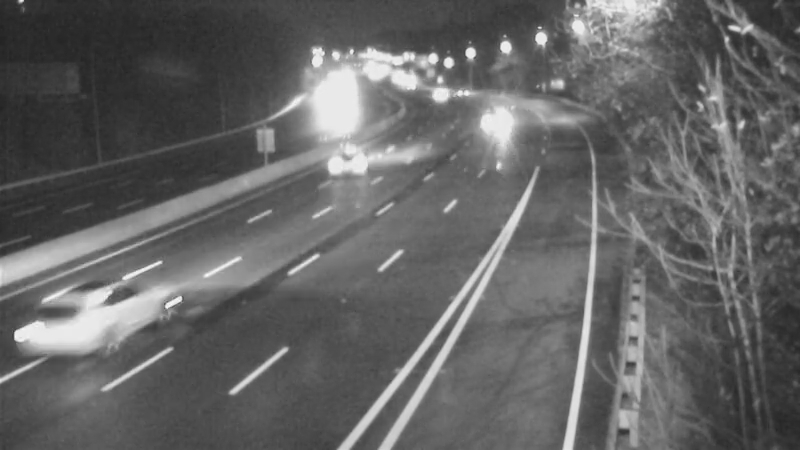vehicle: (5, 276, 115, 386), (318, 121, 398, 201), (417, 65, 467, 115), (440, 68, 490, 118), (471, 85, 521, 135)
